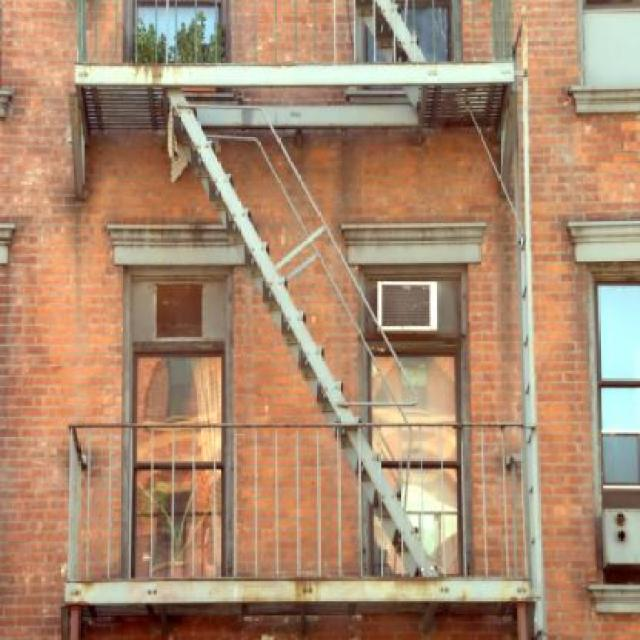stair: (166, 83, 443, 579), (354, 0, 431, 114)
